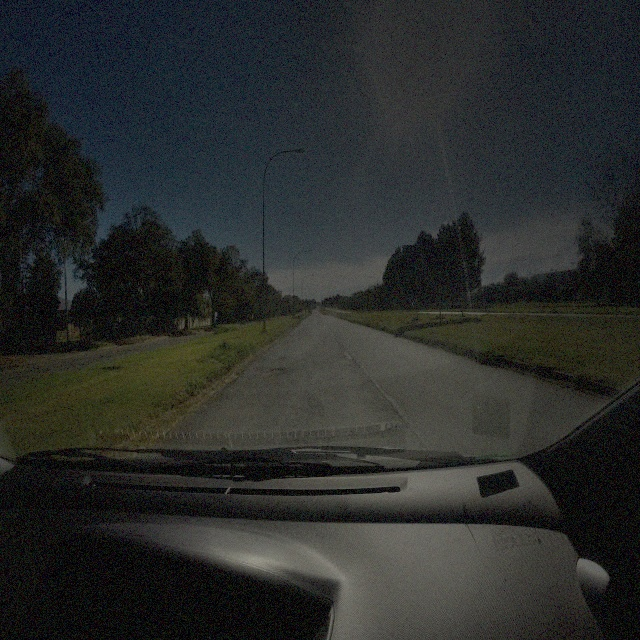pothole: (258, 365, 288, 381)
